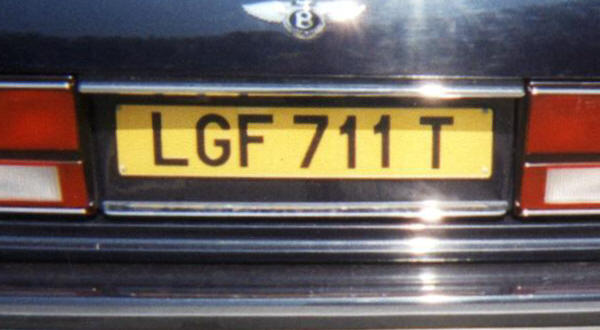license_plate: (114, 106, 494, 178)
